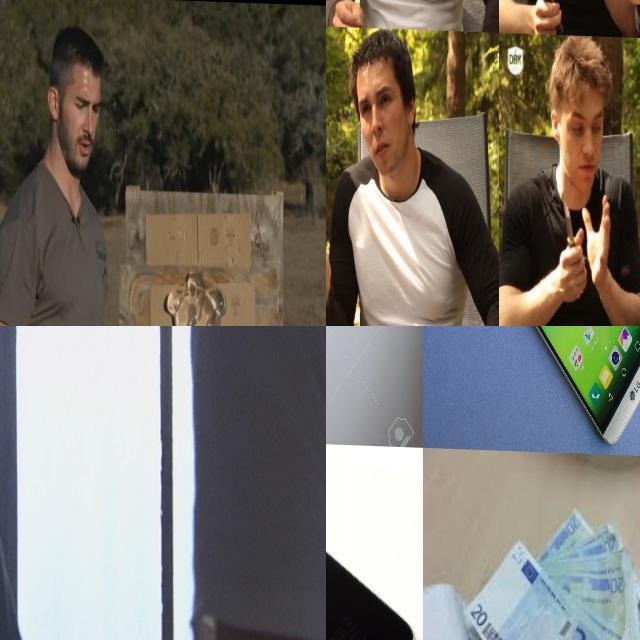-: (551, 180, 588, 280), (326, 247, 352, 326), (523, 0, 563, 42), (326, 0, 346, 53)
gun-knife-thesis - v11 Yolov5 augmented: (0, 326, 66, 500)
